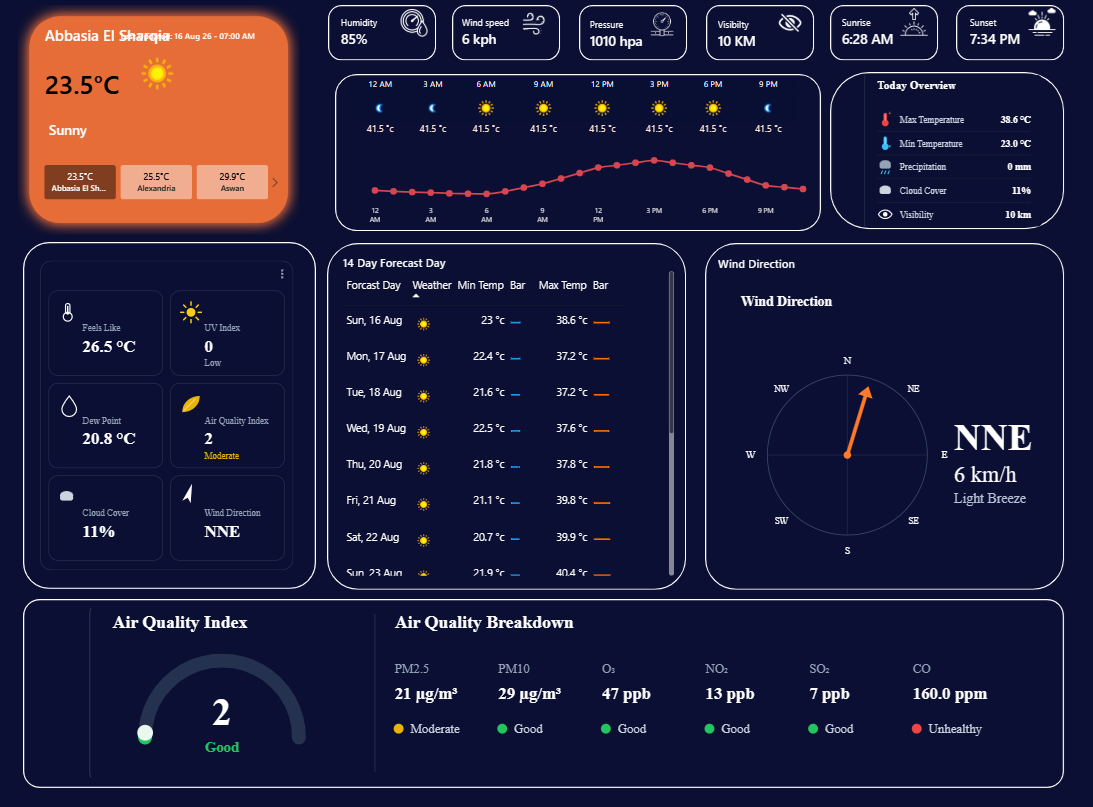

This screenshot's page, from the dashboard's own definition file:
{"tool":"powerbi","page":{"name":"Page 1","canvas":[1950,1440],"ordinal":0},"visuals":[{"type":"shape","box":[39.3,13.6,498.9,406.7],"z":0},{"type":"shape","box":[586.7,436.7,636.7,615],"z":1000},{"type":"shape","box":[600.5,136.1,861.8,278.6],"z":2000},{"type":"shape","box":[588.3,13.3,191.7,98.3],"z":3000},{"type":"shape","box":[1256.7,436.7,636.7,615],"z":4000},{"type":"shape","box":[1478.8,133.8,415,278.8],"z":5000},{"type":"cardVisual","fields":{"Data":["Min(AllData.current.condition.text)"]},"box":[81.6,199.6,255.5,68],"z":6000},{"type":"advancedSlicerVisual","fields":{"Values":["Location.location.name"],"Label":["Measures KPI.Current Temp."]},"box":[65.5,298.2,439.1,61.8],"z":7000},{"type":"image","box":[222.7,85.5,125.5,100.9],"z":8000},{"type":"cardVisual","fields":{"Data":["Min(Location.location.name)"]},"box":[74.1,46.9,273.6,39.3],"z":9000},{"type":"cardVisual","fields":{"Data":["Measures KPI.Last Update"]},"box":[210,47.3,295.5,38.2],"z":10000},{"type":"cardVisual","fields":{"Data":["Measures KPI.Current Temp."]},"box":[73.6,96.4,215.5,112.7],"z":11000},{"type":"shape","box":[808.3,13.3,191.7,98.3],"z":12000},{"type":"shape","box":[1033.3,13.3,191.7,98.3],"z":13000},{"type":"shape","box":[1258.3,13.3,191.7,98.3],"z":14000},{"type":"shape","box":[1478.3,13.3,191.7,98.3],"z":15000},{"type":"shape","box":[1703.3,13.3,191.7,98.3],"z":16000},{"type":"tableEx","title":"14 Day Forecast Day","fields":{"Values":["ForcatDay.Forcast Day","ForcatDay.forecast.forecastday.day.condition.icon","Measures KPI.Min Forcast Day Temp","Measures KPI.Min Temp Bar","Measures KPI.MaxForcast Day Temp","Measures KPI.Max Temp Bar"]},"box":[599.4,443.3,618.9,599.4],"z":17000},{"type":"lineChart","fields":{"Y":["Max(ForcastHour.forecast.forecastday.hour.temp_c)"],"Category":["ForcastHour.Hour Label"]},"box":[627.4,238.9,834.5,181.4],"z":18000},{"type":"pivotTable","title":"Forcating Temp Hour","fields":{"Columns":["ForcastHour.Hour Label"],"Values":["Min(ForcastHour.forecast.forecastday.hour.condition.icon)","Measures KPI.MaxForcast hour Temp"]},"box":[626.7,143.3,800,125],"z":19000},{"type":"cardVisual","fields":{"Data":["Measures KPI.Humidity"]},"box":[600,13.8,130,95],"z":20000},{"type":"image","box":[708.8,21.2,63.8,48.8],"z":21000},{"type":"cardVisual","fields":{"Data":["Measures KPI.Wind speed"]},"box":[813.8,13.8,172.5,95],"z":22000},{"type":"image","box":[922.5,21.2,63.8,48.8],"z":23000},{"type":"cardVisual","fields":{"Data":["Measures KPI.pressure"]},"box":[1041.2,17.5,171.2,95],"z":24000},{"type":"image","box":[1148.8,22.5,63.8,48.8],"z":25000},{"type":"cardVisual","fields":{"Data":["Measures KPI.visibilty"]},"box":[1267.5,17.5,130,95],"z":26000},{"type":"image","box":[1376.2,21.2,63.8,48.8],"z":27000},{"type":"cardVisual","fields":{"Data":["Measures KPI.sunrise"]},"box":[1488.8,15,181.2,95],"z":28000},{"type":"image","box":[1596.2,20,63.8,48.8],"z":29000},{"type":"cardVisual","fields":{"Data":["Measures KPI.sunset"]},"box":[1715,15,171.2,95],"z":30000},{"type":"image","box":[1822.5,20,63.8,48.8],"z":31000},{"type":"cardVisual","title":"Wind Direction","fields":{"Data":["Measures KPI.Wind Compass SVG"]},"box":[1280.4,459.3,606.5,569.3],"z":32000},{"type":"cardVisual","fields":{"Data":["Measures KPI.Today Overview SVG"]},"box":[1526.7,137.8,328.3,269.4],"z":33000},{"type":"shape","box":[47.9,1067.6,1846.1,335.2],"z":34000},{"type":"cardVisual","fields":{"Data":["Measures KPI.Air Quality SVG"]},"box":[152.5,1083.5,1665.2,301.5],"z":35000},{"type":"shape","box":[47.9,434.5,519.6,615.4],"z":36000},{"type":"cardVisual","fields":{"Data":["Measures KPI.Overview Grid SVG"]},"box":[65.6,454,471.7,576.4],"z":37000}]}

Visuals, with their boxes in screenshot pixels (x1, y1, x2, y2), scaled from the page's 1950x1440 canvas onto the 1093x807 screenshot:
shape: (22, 8, 302, 236)
shape: (329, 245, 686, 589)
shape: (337, 76, 820, 232)
shape: (330, 7, 437, 63)
shape: (704, 245, 1061, 589)
shape: (829, 75, 1061, 231)
cardVisual - Min(AllData.current.condition.text): (46, 112, 189, 150)
advancedSlicerVisual - Location.location.name x Measures KPI.Current Temp.: (37, 167, 283, 202)
image: (125, 48, 195, 104)
cardVisual - Min(Location.location.name): (42, 26, 195, 48)
cardVisual - Measures KPI.Last Update: (118, 27, 283, 48)
cardVisual - Measures KPI.Current Temp.: (41, 54, 162, 117)
shape: (453, 7, 561, 63)
shape: (579, 7, 687, 63)
shape: (705, 7, 813, 63)
shape: (829, 7, 936, 63)
shape: (955, 7, 1062, 63)
"14 Day Forecast Day" tableEx: (336, 248, 683, 584)
lineChart - Max(ForcastHour.forecast.forecastday.hour.temp_c) x ForcastHour.Hour Label: (352, 134, 819, 236)
"Forcating Temp Hour" pivotTable: (351, 80, 800, 150)
cardVisual - Measures KPI.Humidity: (336, 8, 409, 61)
image: (397, 12, 433, 39)
cardVisual - Measures KPI.Wind speed: (456, 8, 553, 61)
image: (517, 12, 553, 39)
cardVisual - Measures KPI.pressure: (584, 10, 680, 63)
image: (644, 13, 680, 40)
cardVisual - Measures KPI.visibilty: (710, 10, 783, 63)
image: (771, 12, 807, 39)
cardVisual - Measures KPI.sunrise: (834, 8, 936, 62)
image: (895, 11, 930, 39)
cardVisual - Measures KPI.sunset: (961, 8, 1057, 62)
image: (1022, 11, 1057, 39)
"Wind Direction" cardVisual: (718, 257, 1058, 576)
cardVisual - Measures KPI.Today Overview SVG: (856, 77, 1040, 228)
shape: (27, 598, 1062, 786)
cardVisual - Measures KPI.Air Quality SVG: (85, 607, 1019, 776)
shape: (27, 244, 318, 588)
cardVisual - Measures KPI.Overview Grid SVG: (37, 254, 301, 577)
